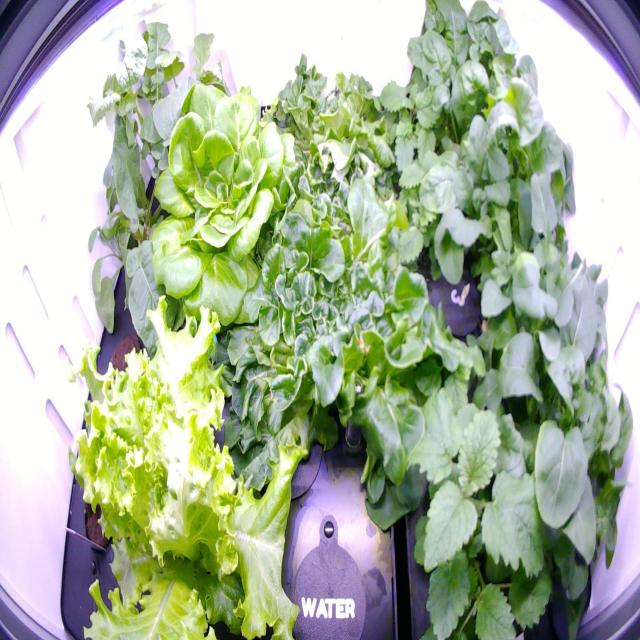Ready: (137, 70, 302, 344)
